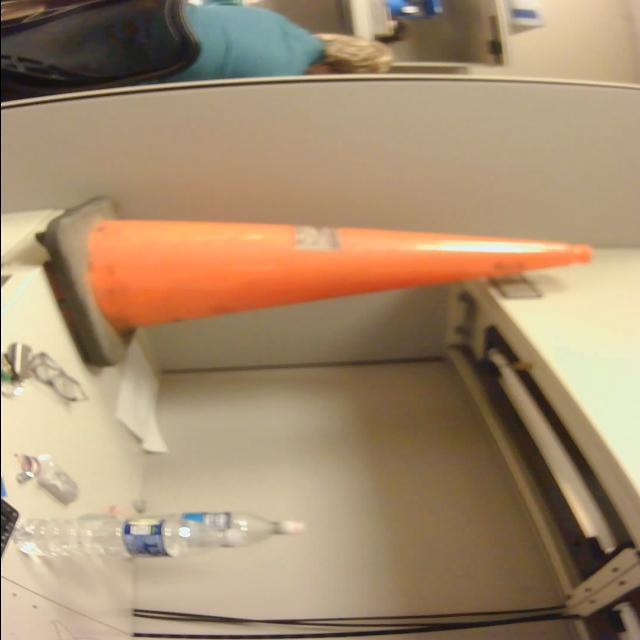traffic cone: (36, 190, 604, 374)
